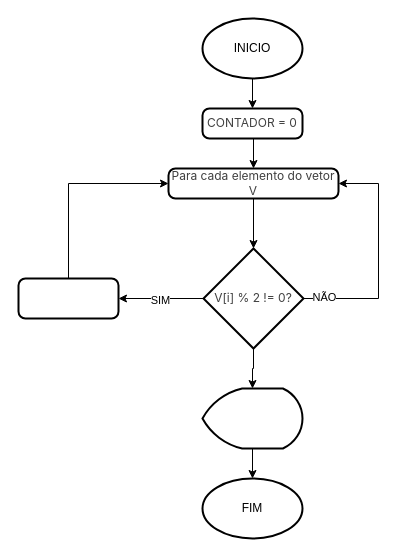
The diagram is 404 pixels wide and 556 high, and some of its shapes have lost their labels. Here are the shapes that lost their labels. From the top down, the centre of each, then its label:
[68,298]: CONTADOR++
[252,418]: MOSTRAR CONTADOR
